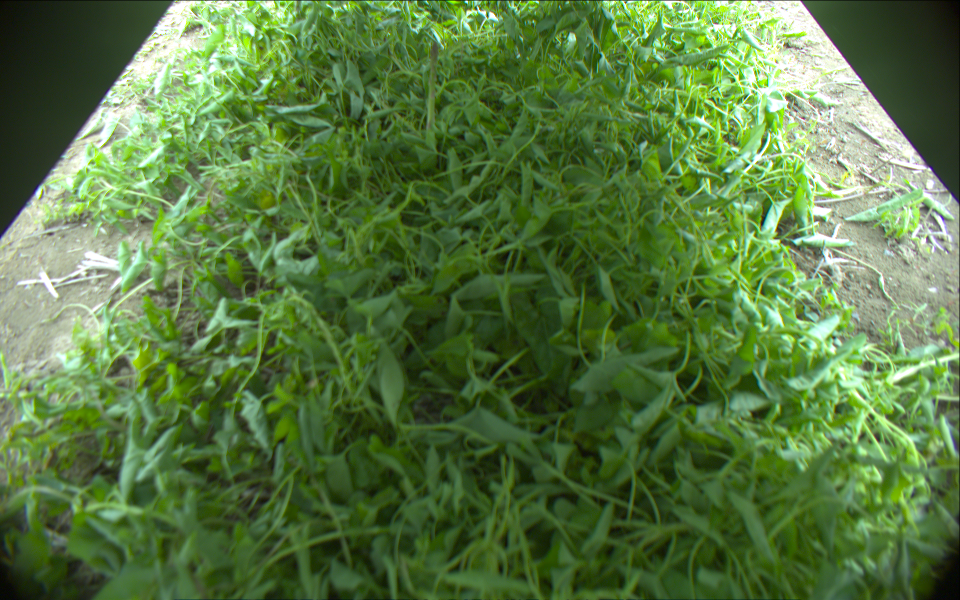aspa: (425, 40, 438, 136)
